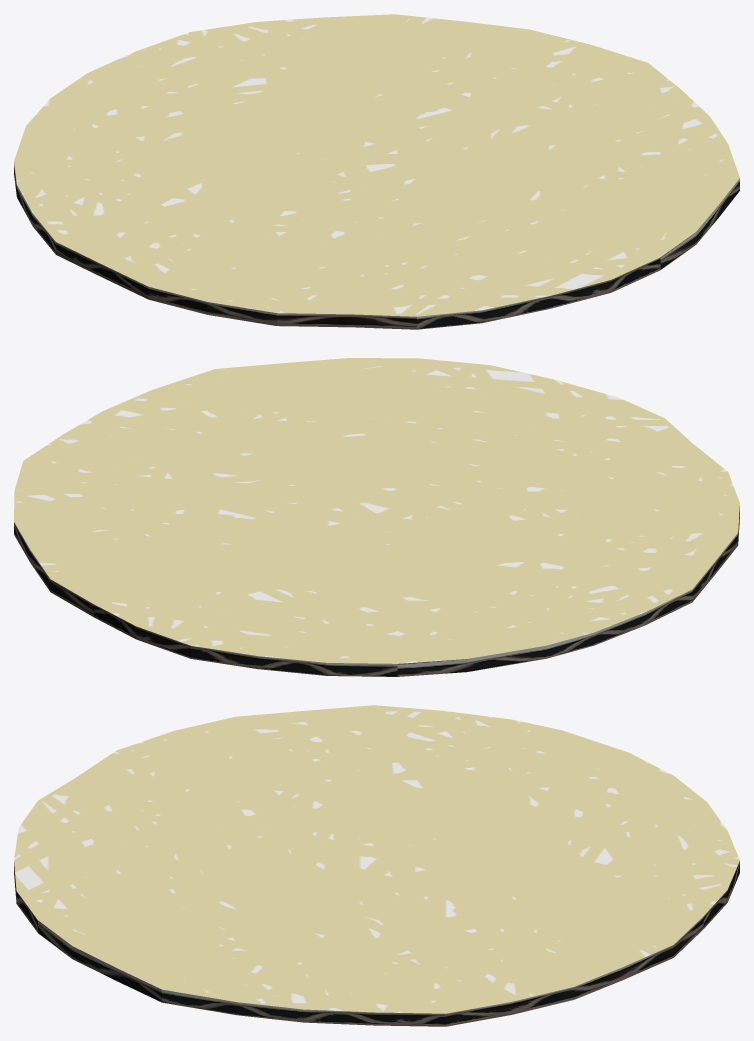
File: sand.fbx
3 views of the same model, one above another, from view 1: azimuth 30°, elevation 25°; view 2: azimuth 150°, elevation 25°; view 3: azimuth 270°, elevation 25° (orthographic).
Visible parts, largest first — view 1: grass; view 2: grass; view 3: grass.
Part boxes in pixels (box(x1,y1,x2,y2)): grass: box(14, 14, 739, 329); grass: box(14, 358, 739, 676); grass: box(14, 705, 739, 1026).
Bounding box in the file's own units: 1013 × 20 × 1008.
